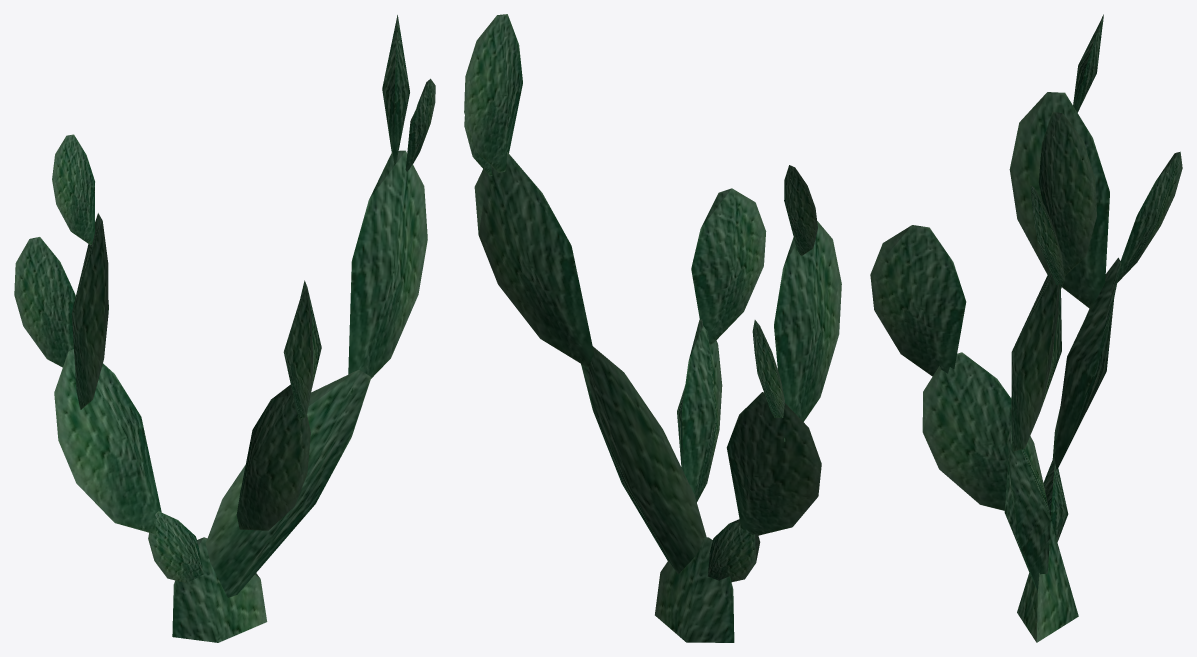
Rendered from Cactus_a.fbx.
3 views of the same model, side by side, from view 1: azimuth 30°, elevation 25°; view 2: azimuth 150°, elevation 25°; view 3: azimuth 270°, elevation 25° (orthographic). The views are drawn at different scales.
Visible parts, largest first — view 1: leaf1, leaf2, leaf4, leaf6, leaf12, leaf8, leaf3, leaf11, leaf7, leaf5, leaf9, leaf10; view 2: leaf1, leaf4, leaf2, leaf3, leaf7, leaf9, leaf8, leaf6, leaf5, leaf11, leaf12; view 3: leaf7, leaf6, leaf3, leaf9, leaf1, leaf2, leaf4, leaf8, leaf12, leaf10, leaf11, leaf5.
Boxes of the visible parts, x1,y1,x2,y2 form: leaf1: (348,150,427,394); leaf2: (54,349,161,534); leaf4: (205,369,371,597); leaf6: (236,384,310,530); leaf12: (14,237,75,367); leaf8: (172,537,267,642); leaf3: (71,213,108,409); leaf11: (52,134,94,244); leaf7: (283,280,321,420); leaf5: (148,511,203,583); leaf9: (382,15,409,165); leaf10: (405,78,435,171); leaf1: (474,152,594,367); leaf4: (581,346,706,574); leaf2: (726,392,821,535); leaf3: (774,221,841,441); leaf7: (691,188,766,344); leaf9: (464,14,522,172); leaf8: (655,537,734,642); leaf6: (677,319,722,502); leaf5: (707,519,760,582); leaf11: (784,165,817,255); leaf12: (752,320,784,417); leaf7: (870,225,966,376); leaf6: (922,352,1011,510); leaf3: (1009,92,1109,309); leaf9: (1038,111,1096,276); leaf1: (1011,270,1061,451); leaf2: (1052,257,1121,469); leaf4: (1004,425,1050,590); leaf8: (1017,510,1078,642); leaf12: (1117,151,1182,282); leaf10: (1030,185,1064,289); leaf11: (1073,14,1103,112); leaf5: (1043,455,1068,542).
Bounding box in the file's own units: 132 × 195 × 91.46.
Materials: 1 (1 with a texture image).
